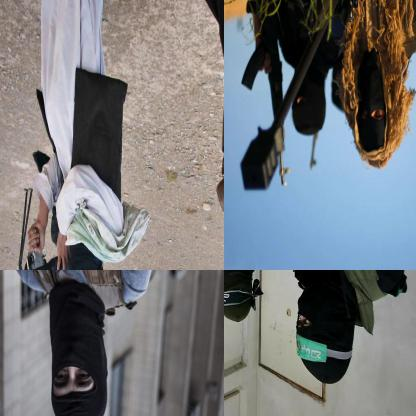rifle: (238, 5, 289, 194), (0, 185, 73, 269)
